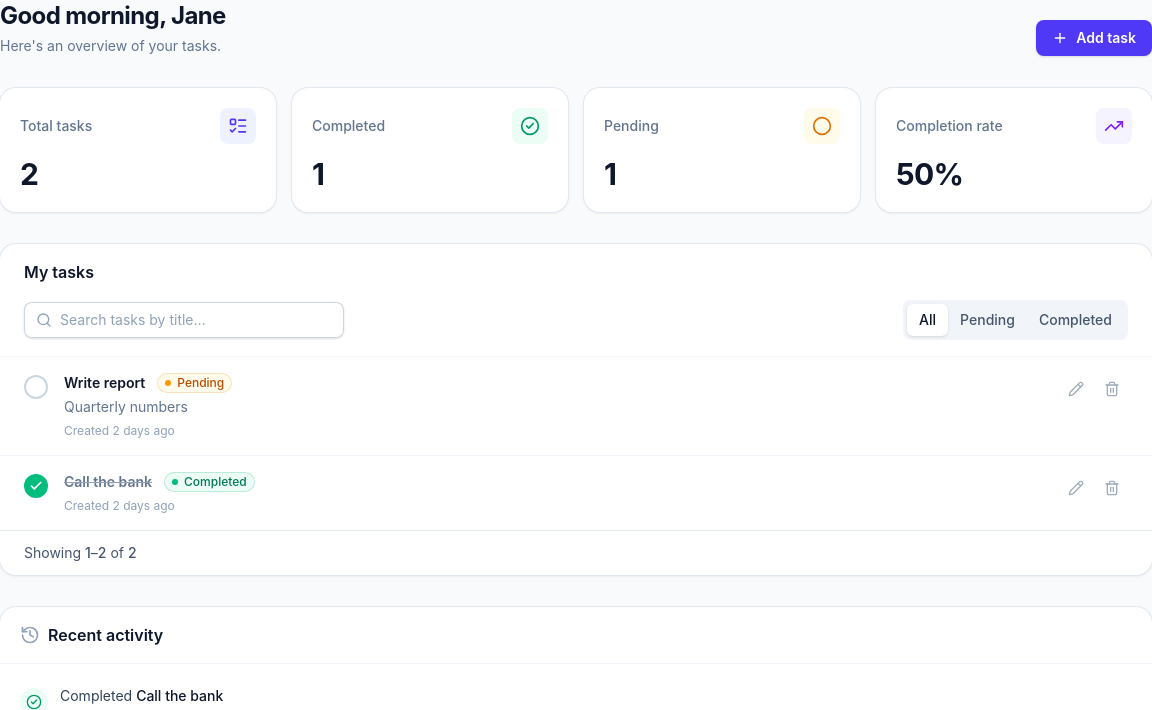
Test: DashboardPage › asks for confirmation before deleting, and does nothing on cancel
Click the button named "Delete “Write report”" at (1112,389), box x1=1096 y1=373 x2=1128 y2=405
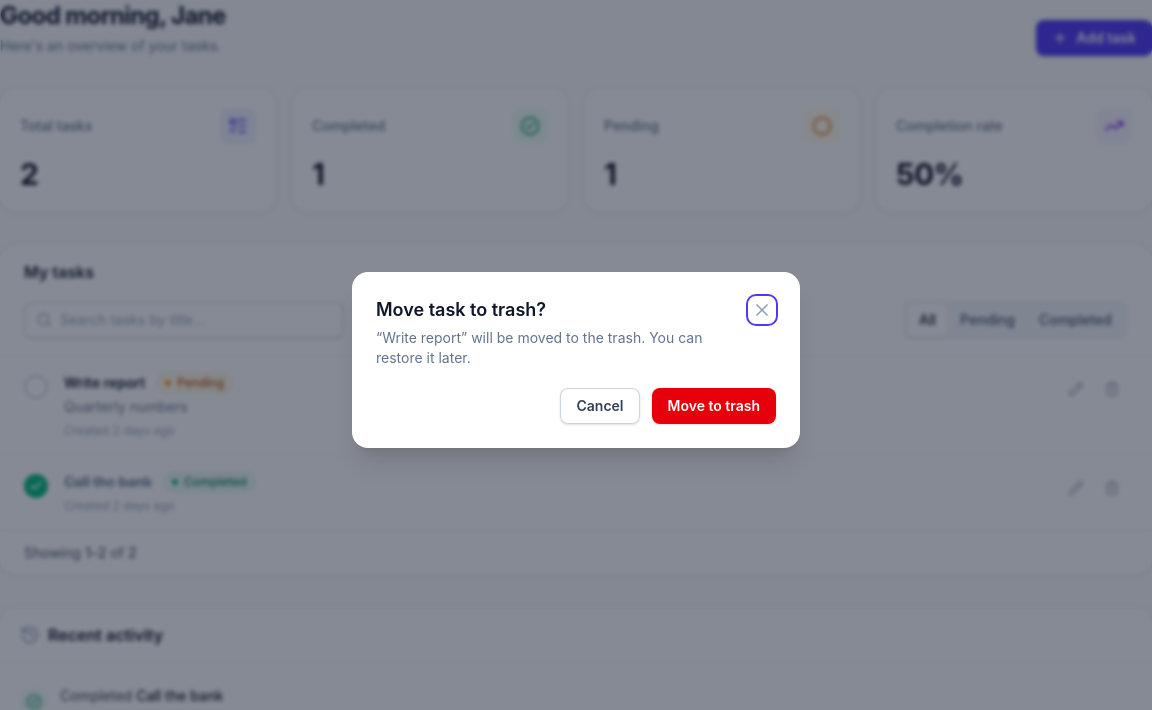
expect the dialog "Move task to trash?" shows "“Write report” will be moved to the trash.": met, box x1=376 y1=329 x2=702 y2=366
Click the button "Cancel" at (600,406), box x1=560 y1=388 x2=640 y2=424
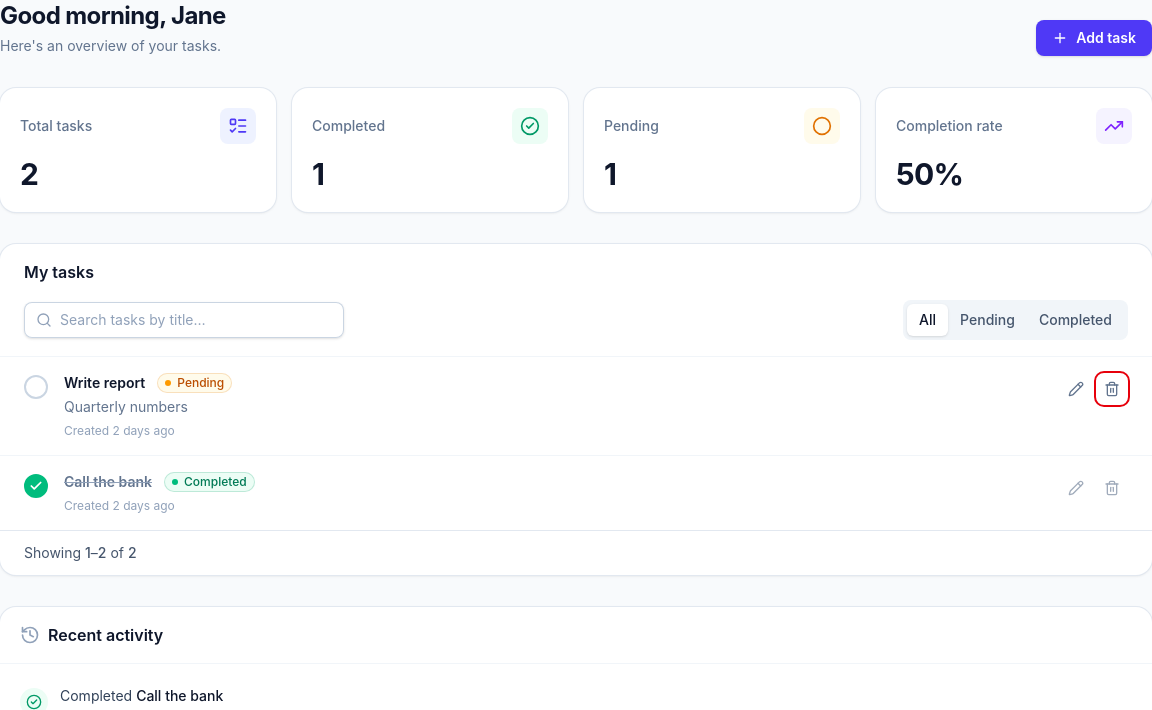
expect the dialog is gone: met
